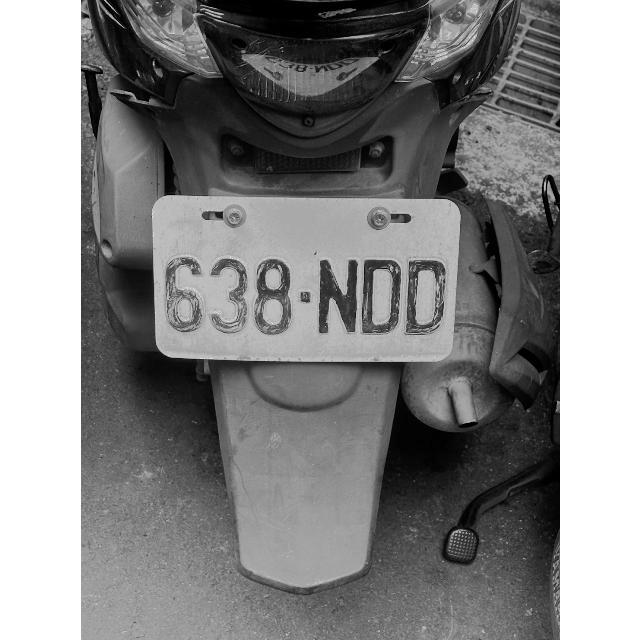-: (296, 288, 314, 306)
3: (212, 255, 250, 338)
6: (164, 253, 202, 334)
8: (255, 255, 293, 338)
D: (403, 255, 449, 338), (361, 258, 403, 336)
N: (316, 258, 358, 336)
